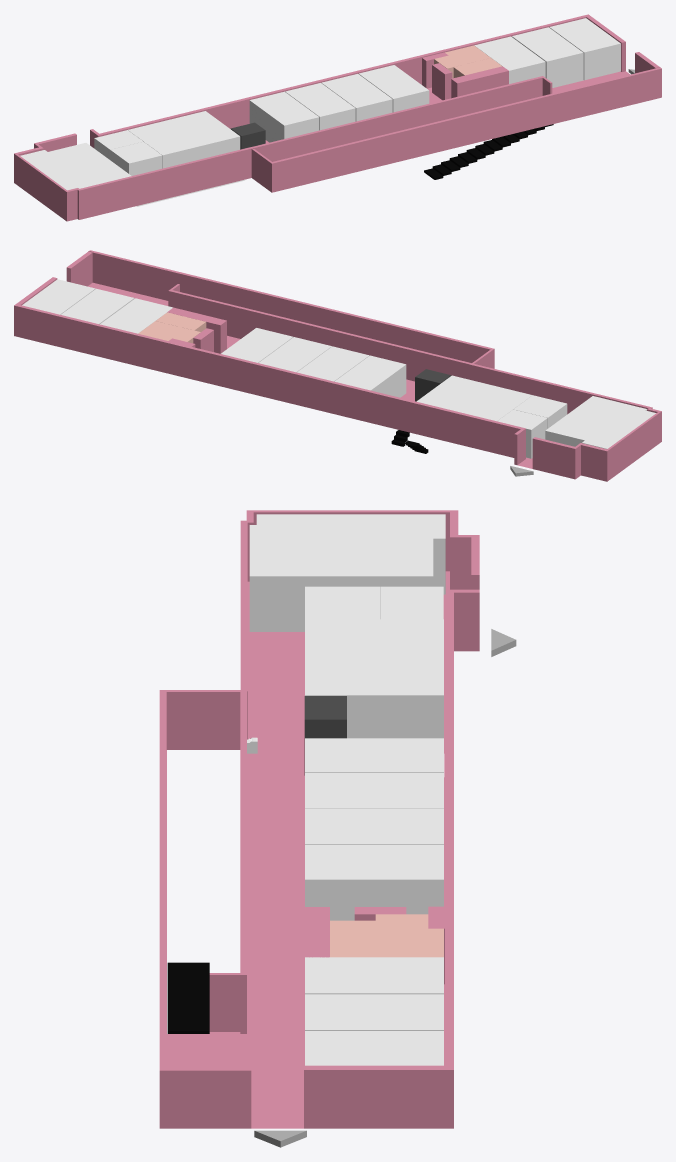
The picture shows the model from 3 angles, top to bottom: view 1: azimuth 30°, elevation 25°; view 2: azimuth 150°, elevation 25°; view 3: azimuth 270°, elevation 25°; orthographic projection. The views are drawn at different scales.
Parts seen in each view (by area): view 1: object, 史学古文書調査実習室, 博士後期課程院生自習室, 221, 227, 226, 223, 225, 224, 222, 階段_2_2_1, 地図資料室 (+4 smaller); view 2: object, 博士後期課程院生自習室, 史学古文書調査実習室, 221, 226, 227, 223, 225, 224, 222, 地理学空間情報処理室, 地図資料室 (+4 smaller); view 3: object, 博士後期課程院生自習室, 史学古文書調査実習室, 224, 225, 223, 226, 222, 227, 221, 階段_2_2_1, 女子トイレ_2_2_1 (+4 smaller).
Part boxes in pixels (x1,y1,x2,y2): object: (14, 14, 661, 221); 史学古文書調査実習室: (128, 111, 240, 168); 博士後期課程院生自習室: (20, 143, 131, 190); 221: (249, 91, 319, 142); 227: (549, 18, 620, 80); 226: (512, 27, 583, 87); 223: (321, 74, 392, 121); 225: (474, 36, 545, 83); 224: (359, 65, 429, 112); 222: (285, 83, 355, 130); 階段_2_2_1: (424, 124, 553, 179); 地図資料室: (110, 142, 162, 175); object: (14, 250, 661, 481); 博士後期課程院生自習室: (545, 396, 655, 448); 史学古文書調査実習室: (416, 375, 532, 421); 221: (335, 355, 406, 397); 226: (61, 288, 134, 324); 227: (22, 279, 95, 314); 223: (259, 337, 331, 372); 225: (100, 298, 172, 333); 224: (221, 328, 293, 362); 222: (297, 346, 369, 381); 地理学空間情報処理室: (497, 409, 547, 458); 地図資料室: (513, 395, 567, 428); object: (159, 510, 479, 1128); 博士後期課程院生自習室: (249, 514, 445, 631); 史学古文書調査実習室: (305, 619, 443, 738); 224: (305, 844, 443, 920); 225: (305, 957, 443, 994); 223: (305, 808, 443, 844); 226: (305, 994, 443, 1030); 222: (305, 773, 443, 808); 227: (305, 1031, 443, 1065); 221: (305, 738, 443, 772); 階段_2_2_1: (167, 962, 209, 1033); 女子トイレ_2_2_1: (375, 914, 443, 957).
Size of the model in its own units: 3.61 by 0.3511 by 0.9488.
